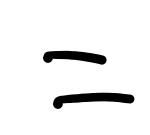eqv: (43, 51, 135, 109)
